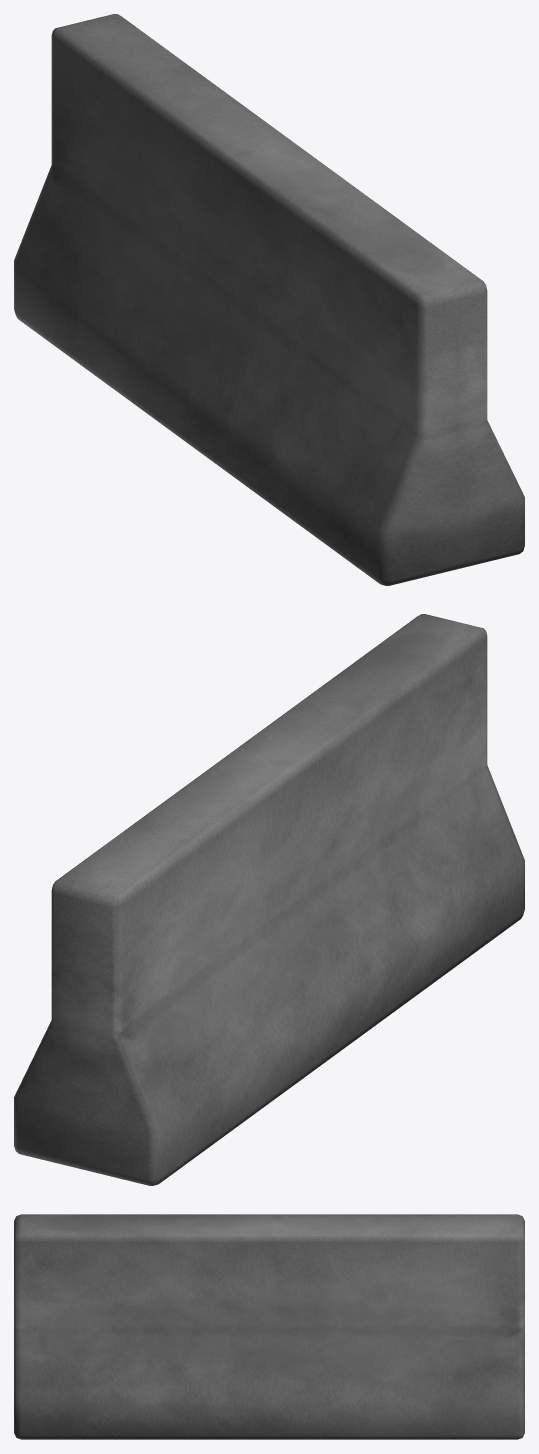
Rendered from concrete-barrier.glb.
The picture shows the model from 3 angles, top to bottom: view 1: azimuth 30°, elevation 25°; view 2: azimuth 150°, elevation 25°; view 3: azimuth 270°, elevation 25°; orthographic projection. The views are drawn at different scales.
Visible parts, largest first — view 1: Concrete Barrier; view 2: Concrete Barrier; view 3: Concrete Barrier.
Boxes of the visible parts, box(x1,y1,x2,y2) form: Concrete Barrier: box(14, 14, 524, 585); Concrete Barrier: box(14, 614, 524, 1185); Concrete Barrier: box(14, 1214, 524, 1439).
Size of the model in its own units: 0.4264 by 0.7957 by 1.9.
1 material, 1 textured.
